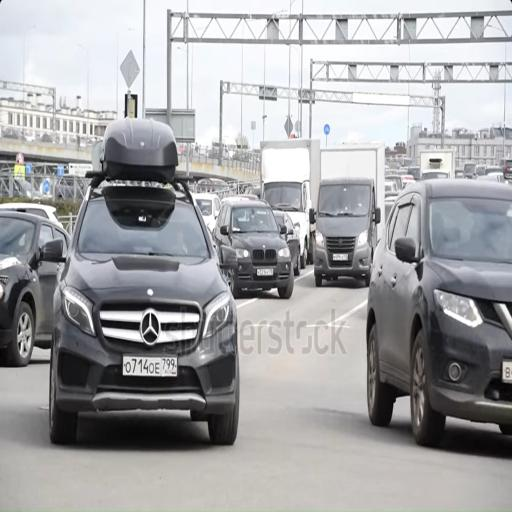License plates: (123, 356, 177, 376), (502, 361, 511, 383), (257, 269, 273, 276), (333, 254, 348, 261)
